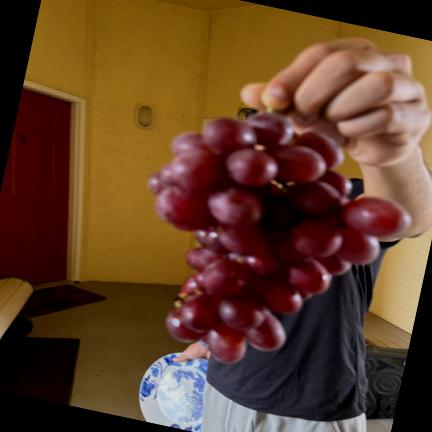grape_cluster: (148, 108, 411, 364)
